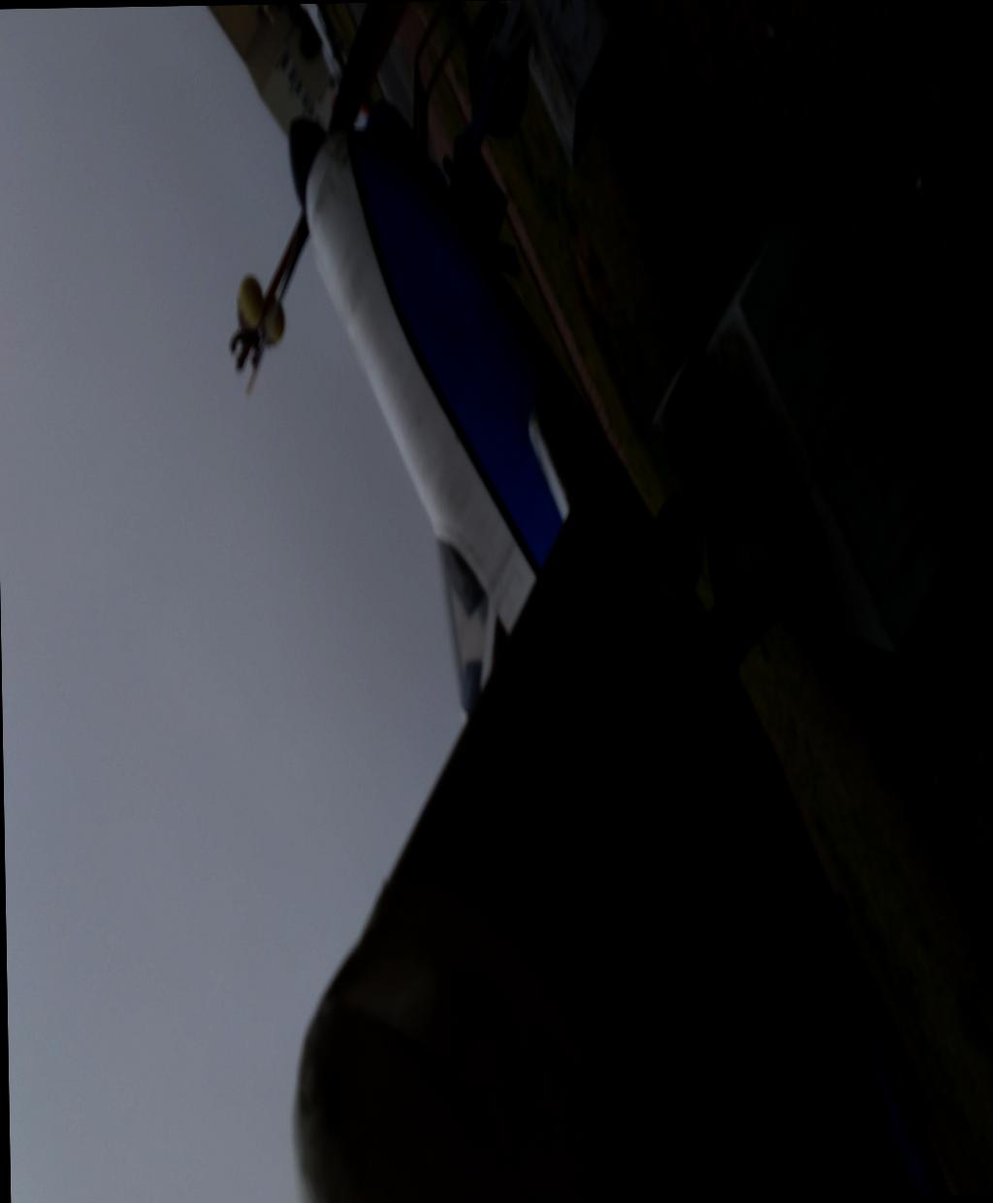dent: (374, 309, 428, 553)
